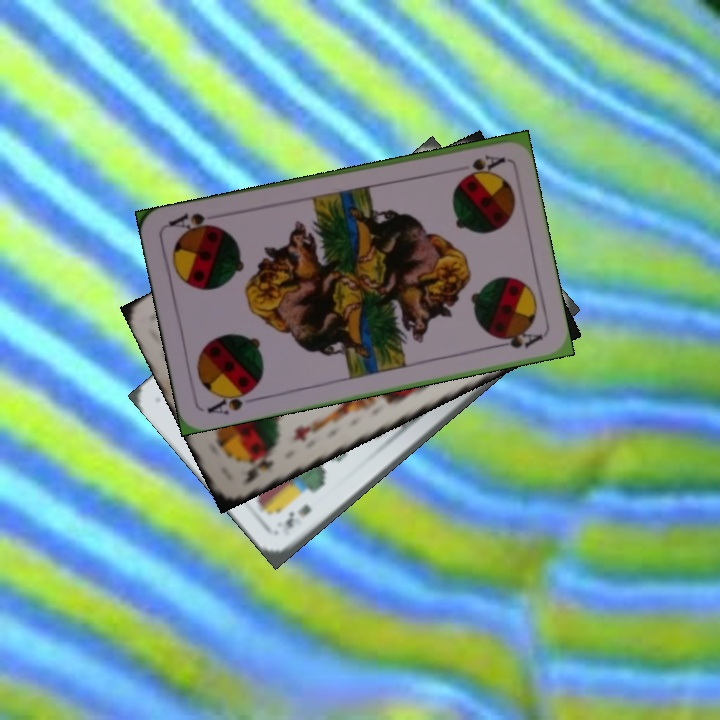EK: (280, 500, 314, 531)
SA: (203, 384, 260, 418), (460, 151, 507, 178)
SK: (238, 452, 276, 488)
